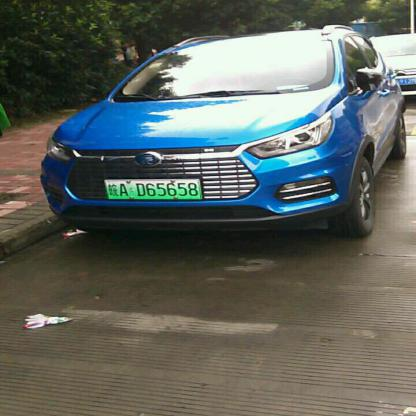lp: (102, 179, 202, 200)
